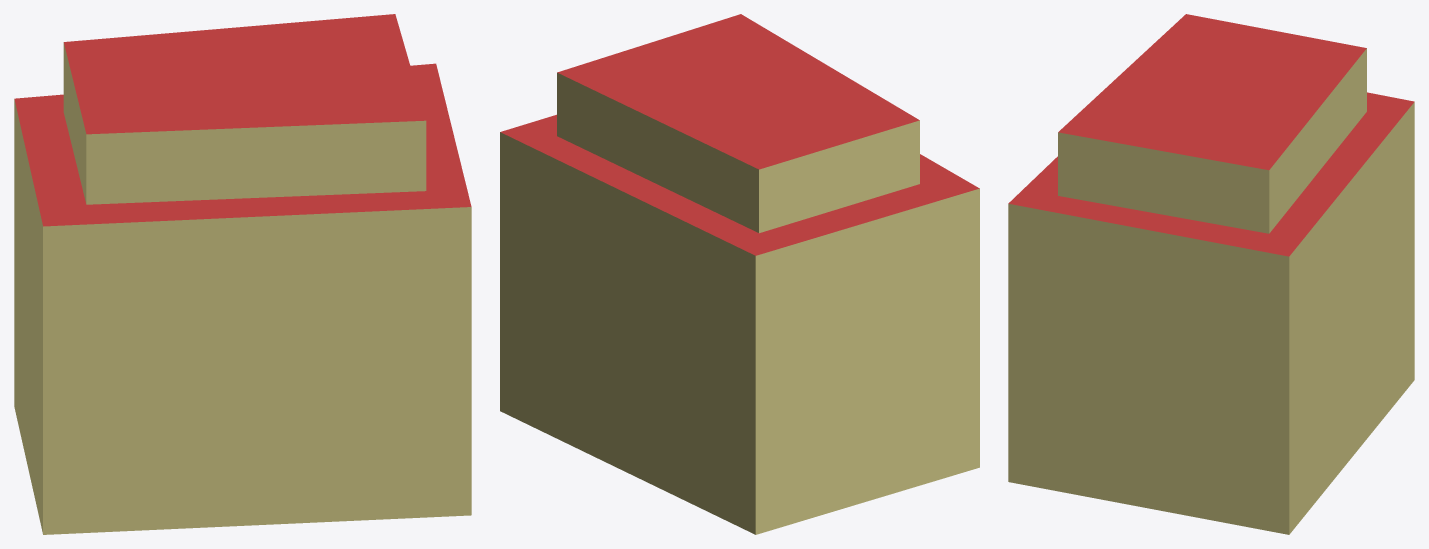
3 renders of one model, left to right at view 1: azimuth 30°, elevation 25°; view 2: azimuth 150°, elevation 25°; view 3: azimuth 270°, elevation 25°, orthographic. The views are drawn at different scales.
Parts seen in each view (by area): view 1: group_6, group_4, group_5, group_3; view 2: group_6, group_4, group_5, group_3; view 3: group_6, group_4, group_5, group_3.
Part boxes in pixels (x1,y1,x2,y2): group_6: [14, 99, 471, 534]; group_4: [64, 14, 425, 134]; group_5: [63, 42, 426, 204]; group_3: [14, 63, 471, 226]; group_6: [500, 132, 979, 534]; group_4: [557, 14, 919, 169]; group_5: [557, 72, 919, 233]; group_3: [500, 114, 979, 255]; group_6: [1008, 102, 1414, 534]; group_4: [1058, 14, 1366, 170]; group_5: [1058, 48, 1366, 233]; group_3: [1008, 92, 1414, 256].
Size of the model in its own units: 19.04 by 16.09 by 14.93.
